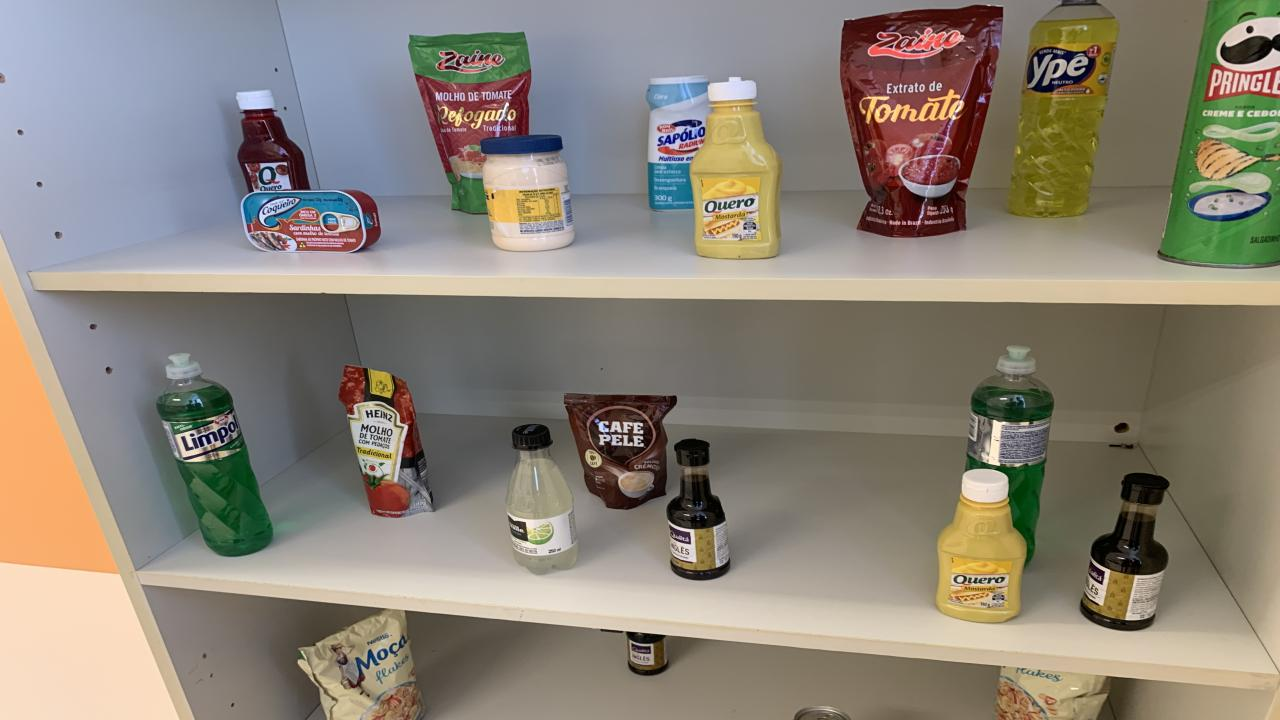Cleaner-Cleanup_Items: (648, 75, 710, 210)
Coffee-Pantry_Items: (565, 394, 678, 510)
Detergent-Cleanup_Items: (1008, 0, 1120, 218), (158, 352, 272, 557), (968, 347, 1055, 564)
English_Sauce-Pantry_Items: (1080, 472, 1170, 630), (668, 439, 730, 579), (628, 632, 670, 675)
Flakes-Snacks: (298, 609, 425, 720), (995, 668, 1110, 720), (388, 677, 390, 679)
Ketchup-Pantry_Items: (235, 90, 310, 191), (252, 236, 298, 251)
Mayonnaise-Pantry_Items: (480, 135, 575, 251)
Mustard-Pantry_Items: (690, 77, 782, 259), (935, 469, 1028, 622)
Pringles-Snacks: (1160, 0, 1280, 268)
Soda-Drinks: (505, 424, 578, 574)
Tomato_Sauce-Pantry_Items: (840, 6, 1002, 236), (410, 32, 532, 214), (340, 366, 432, 518)
Tuna_Can-Pantry_Items: (240, 189, 380, 251)
